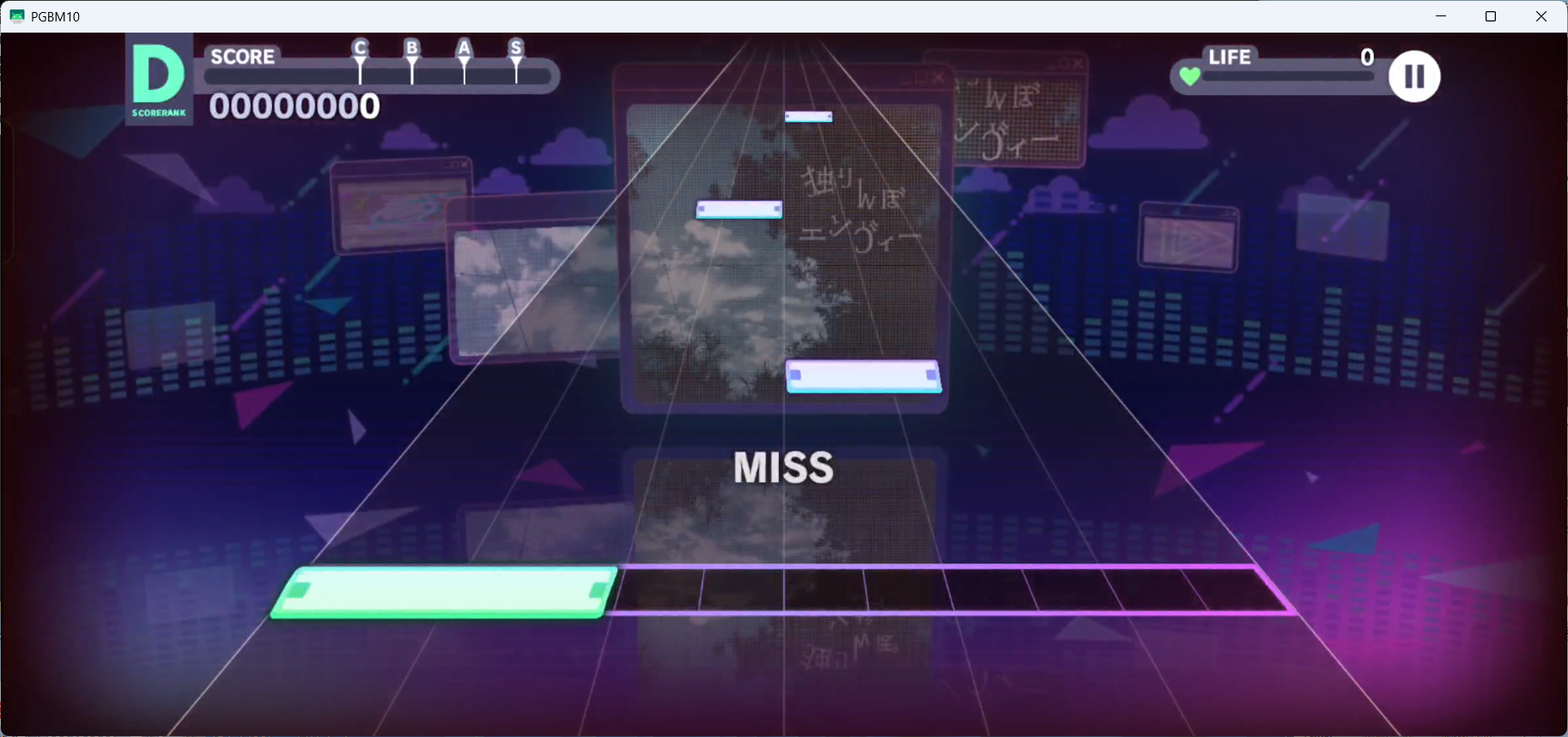tap: (269, 564, 619, 618), (785, 358, 944, 394), (695, 200, 783, 219), (784, 111, 833, 123)
